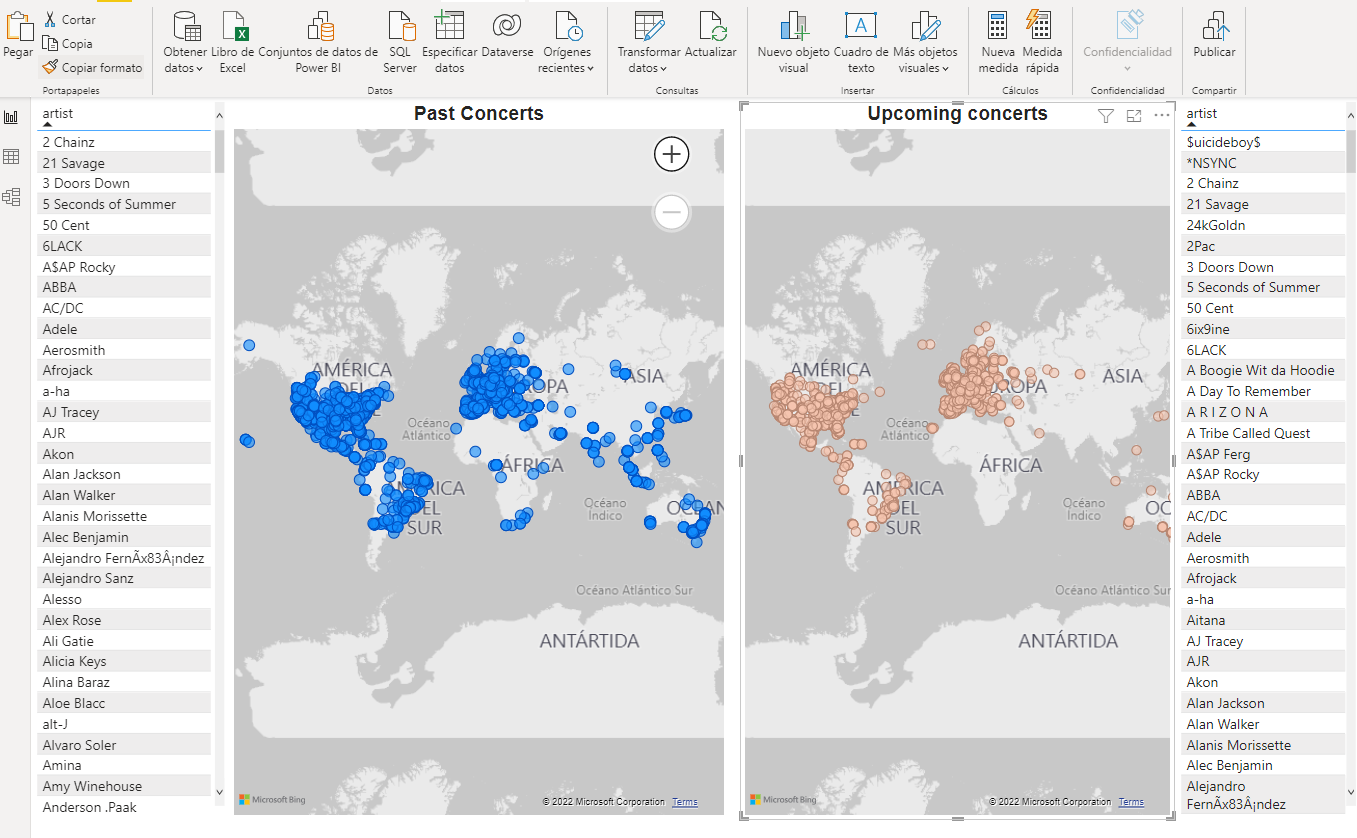

This screenshot's page, from the dashboard's own definition file:
{"tool":"powerbi","page":{"name":"Página 1","canvas":[1280,720],"ordinal":0},"visuals":[{"type":"map","title":"Past Concerts","fields":{"Category":["Spotify past_concerts.location"]},"box":[190.6,4.8,481.2,691],"z":0},{"type":"tableEx","fields":{"Values":["Spotify upcoming_concerts.artist"]},"box":[0,0,190.6,695.8],"z":1000},{"type":"tableEx","fields":{"Values":["Spotify past_concerts.artist"]},"box":[1101,0,179,695.8],"z":2000},{"type":"map","title":"Upcoming concerts","fields":{"Category":["Spotify upcoming_concerts.location"]},"box":[682,5,419,691],"z":2001}]}

Visuals, with their boxes on the page's 1280x720 design canvas (x1, y1, x2, y2). These are canvas units, not pixel positions in the 1357x838 screenshot, which may show the page scaled, cropped or inside an application window:
"Past Concerts" map: rect(191, 5, 672, 696)
tableEx - Spotify upcoming_concerts.artist: rect(0, 0, 191, 696)
tableEx - Spotify past_concerts.artist: rect(1101, 0, 1280, 696)
"Upcoming concerts" map: rect(682, 5, 1101, 696)
